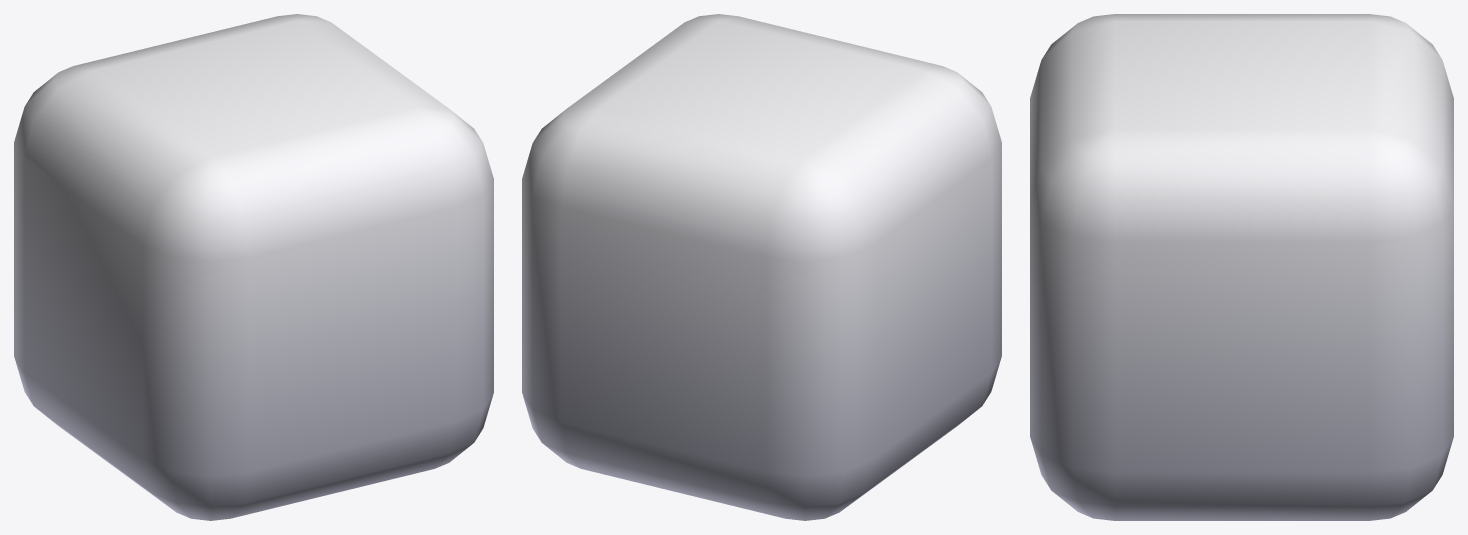
File: platformer_cloud.glb
3 renders of one model, left to right at view 1: azimuth 30°, elevation 25°; view 2: azimuth 150°, elevation 25°; view 3: azimuth 270°, elevation 25°, orthographic. The views are drawn at different scales.
Parts seen in each view (by area): view 1: cloud; view 2: cloud; view 3: cloud.
Part boxes in pixels (x1=…): cloud: x1=14, y1=14, x2=493, y2=520; cloud: x1=522, y1=14, x2=1001, y2=520; cloud: x1=1030, y1=14, x2=1453, y2=520.
Size of the model in its own units: 1 by 1 by 1.
Materials: 1 (1 with a texture image).
